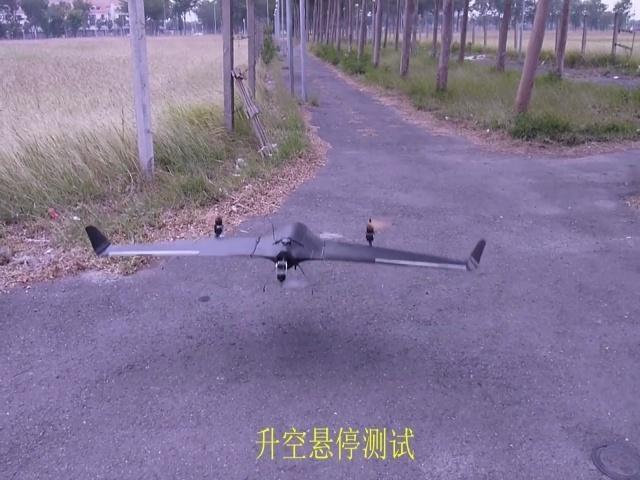Airplane: (85, 213, 485, 287)
